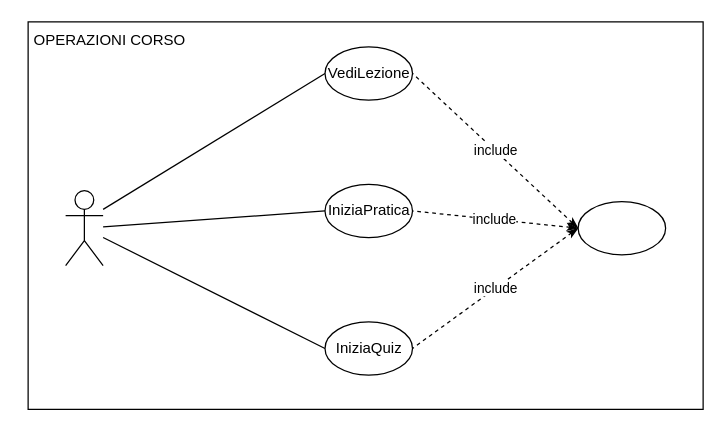
Image size: 725x431. Some labels were removed from this diagram. The centre of each missing label's shape, as x and y in pixels:
"ListaCorsi" goes at (621,227).
"Utente" goes at (83,227).
